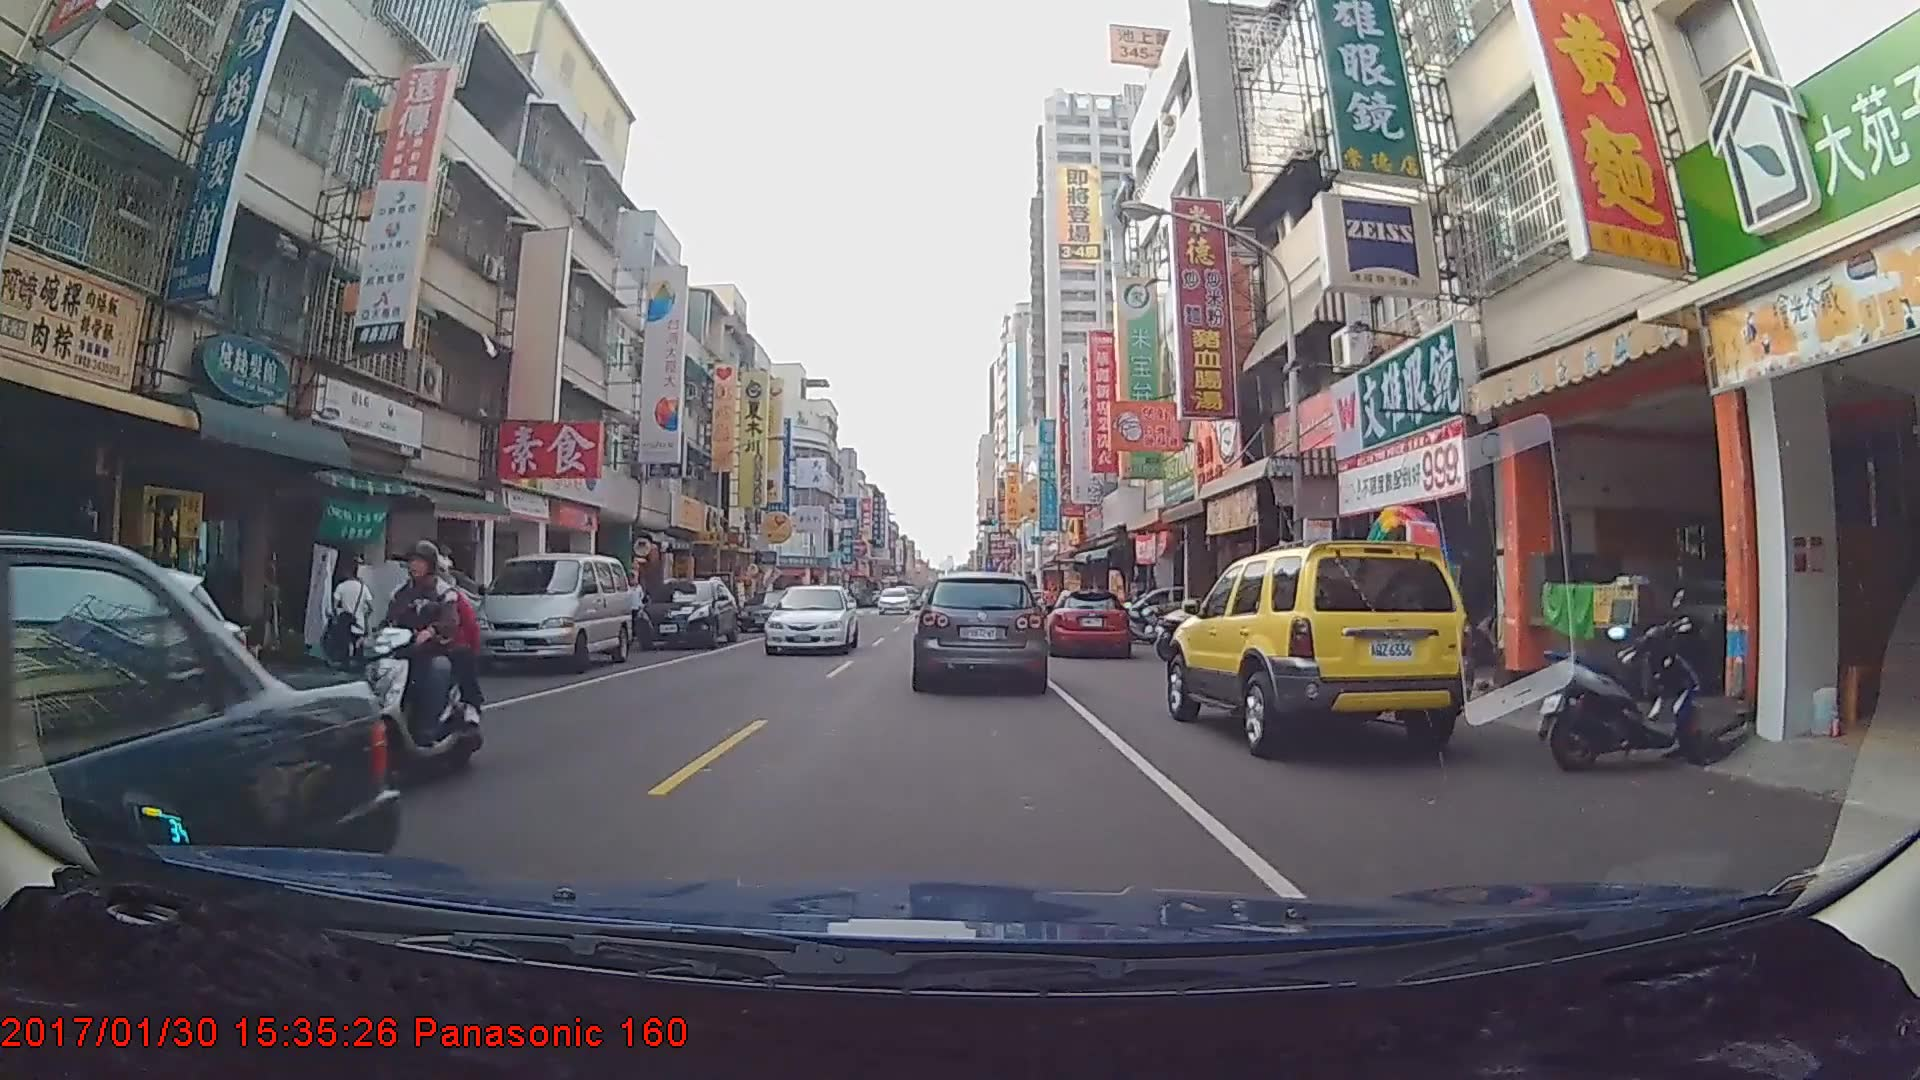pedestrian: (325, 557, 376, 683)
rider: (328, 532, 496, 803)
vehicle: (0, 535, 403, 998), (1166, 534, 1470, 754), (473, 554, 629, 674), (913, 571, 1046, 688), (631, 576, 738, 648), (764, 584, 858, 655), (1042, 589, 1131, 659), (739, 589, 803, 632), (877, 587, 911, 616)
